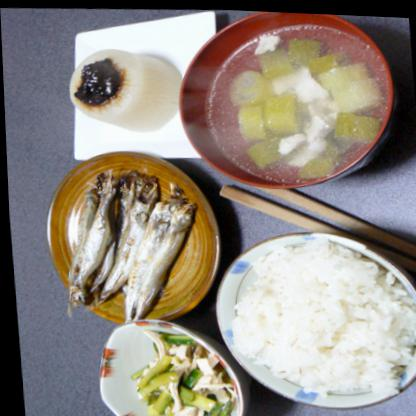rice ball: (210, 228, 415, 406)
